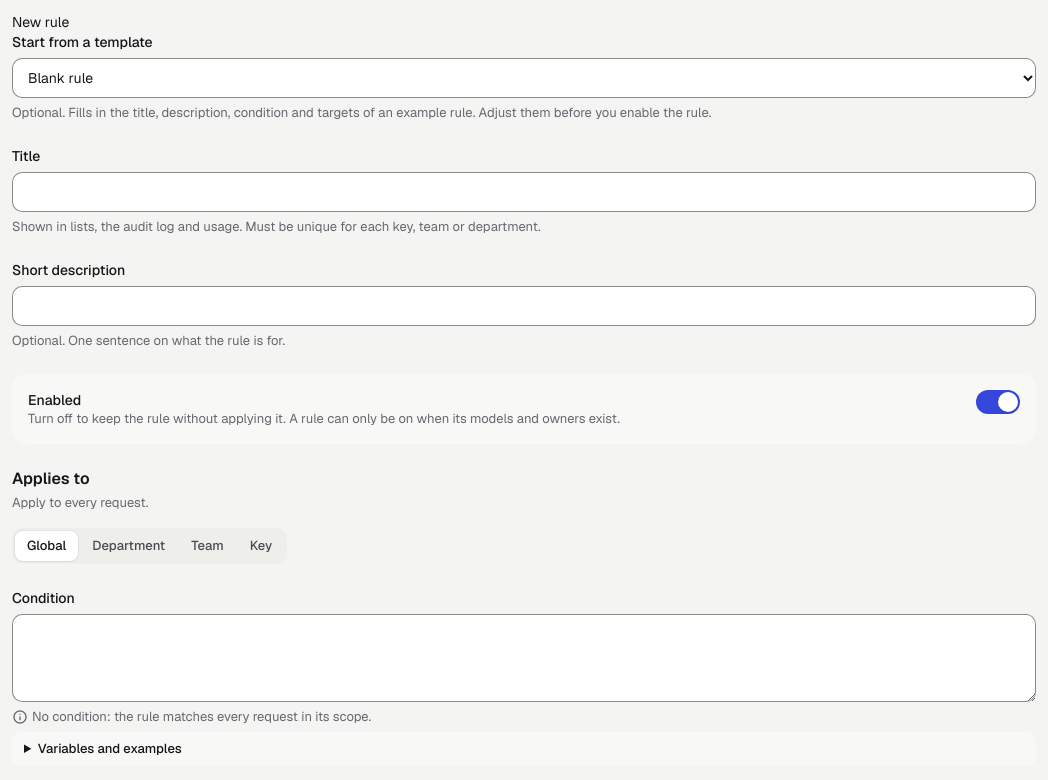
it: RuleFormDrawer › fills a new rule from a template
Select "Personal data to a local model" in the dropdown with id "rule-template" at (524, 78), box [12,58,1036,98]
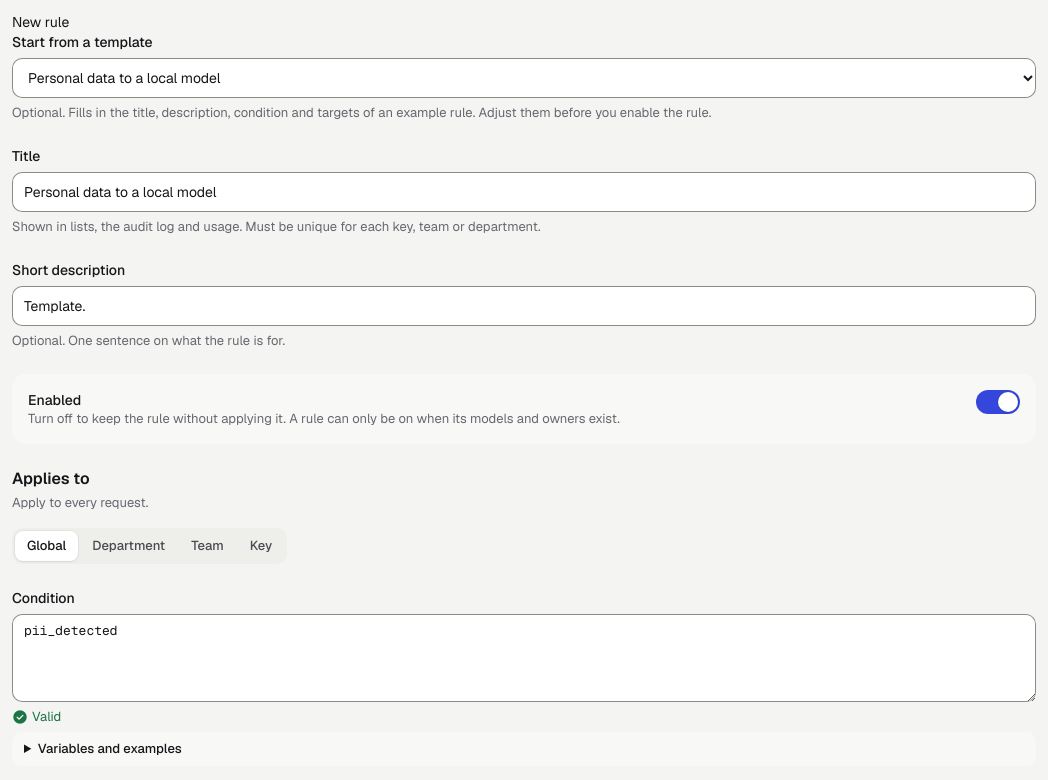
Expected: the field with id "rule-name" holds "Personal data to a local model", [12,172,1036,212]
Expected: the text box labelled "Condition" holds "pii_detected", [12,614,1036,702]
